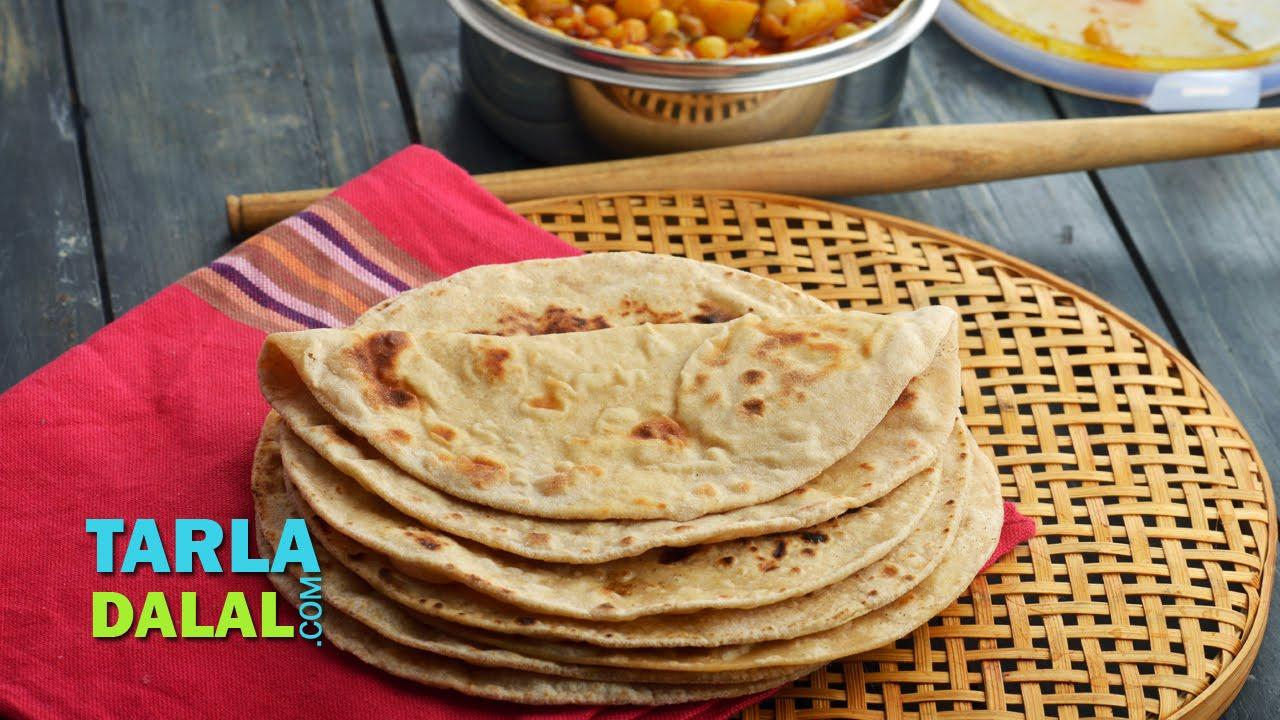roti: (252, 258, 1006, 704)
